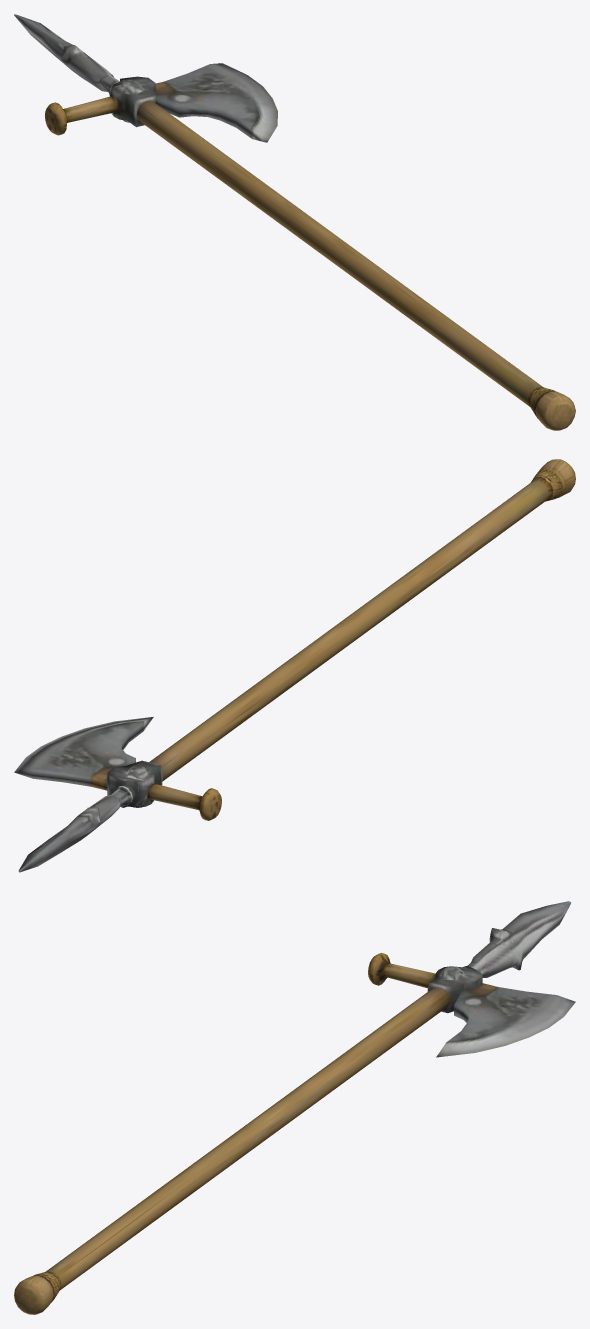
File: halberd.fbx
3 renders of one model, top to bottom at view 1: azimuth 30°, elevation 25°; view 2: azimuth 150°, elevation 25°; view 3: azimuth 330°, elevation 25°, orthographic.
Parts seen in each view (by area): view 1: tripo_node_c1977fa2-5332-41d4-bd4c-26038a578319; view 2: tripo_node_c1977fa2-5332-41d4-bd4c-26038a578319; view 3: tripo_node_c1977fa2-5332-41d4-bd4c-26038a578319.
Part boxes in pixels (x1=…): tripo_node_c1977fa2-5332-41d4-bd4c-26038a578319: x1=14, y1=14, x2=575, y2=430; tripo_node_c1977fa2-5332-41d4-bd4c-26038a578319: x1=14, y1=459, x2=575, y2=872; tripo_node_c1977fa2-5332-41d4-bd4c-26038a578319: x1=14, y1=901, x2=575, y2=1314.
Size of the model in its own units: 0.4753 by 0.0878 by 2.33.
1 material, 1 textured.
